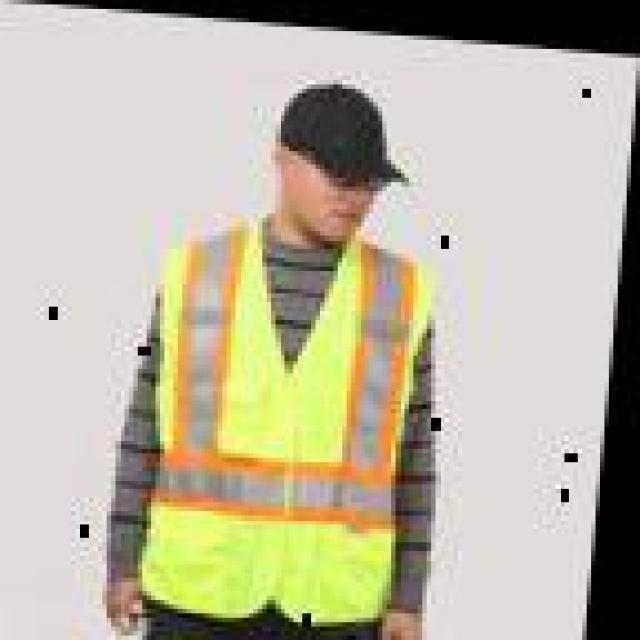safety_helmet: (147, 225, 436, 633)
